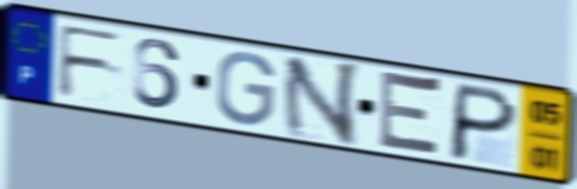6: (132, 36, 184, 113)
E: (375, 66, 446, 163)
F: (55, 22, 128, 100)
G: (212, 49, 279, 128)
N: (280, 55, 364, 148)
P: (444, 80, 522, 165)
